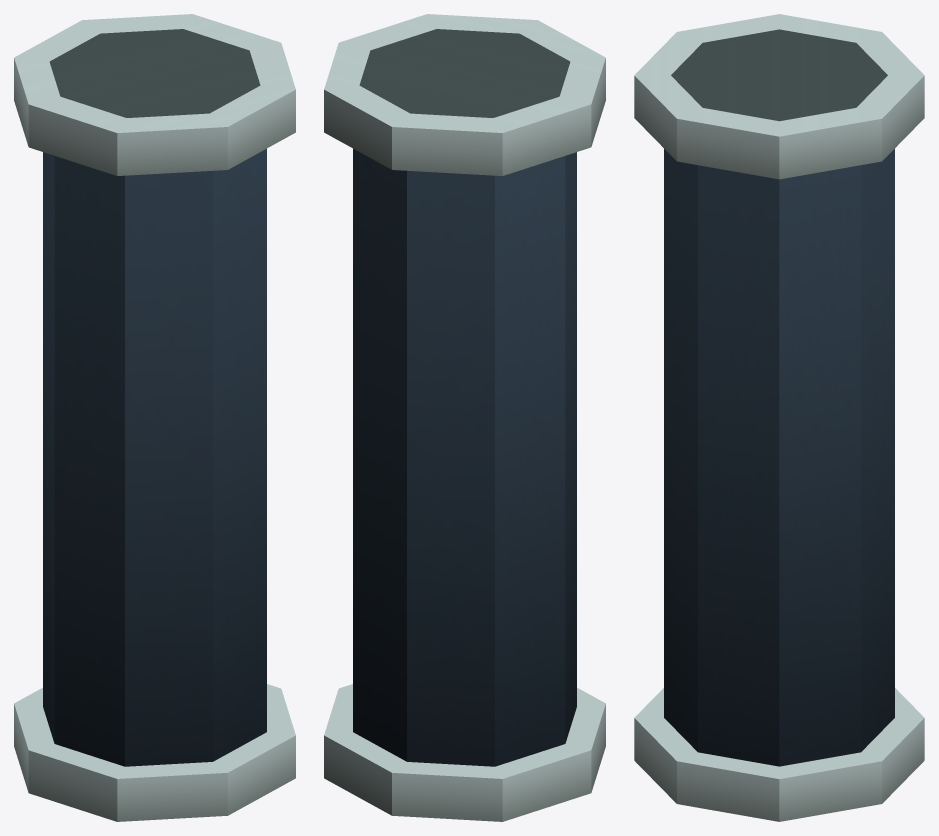
The model's file is pipe_003.fbx.
The picture shows the model from 3 angles, left to right: view 1: azimuth 30°, elevation 25°; view 2: azimuth 150°, elevation 25°; view 3: azimuth 270°, elevation 25°; orthographic projection.
Visible parts, largest first — view 1: pipe.003; view 2: pipe.003; view 3: pipe.003.
Part boxes in pixels (x1,y1,x2,y2): pipe.003: (14,14,295,821); pipe.003: (324,14,605,821); pipe.003: (634,14,924,821).
Size of the model in its own units: 101 by 263 by 101.
